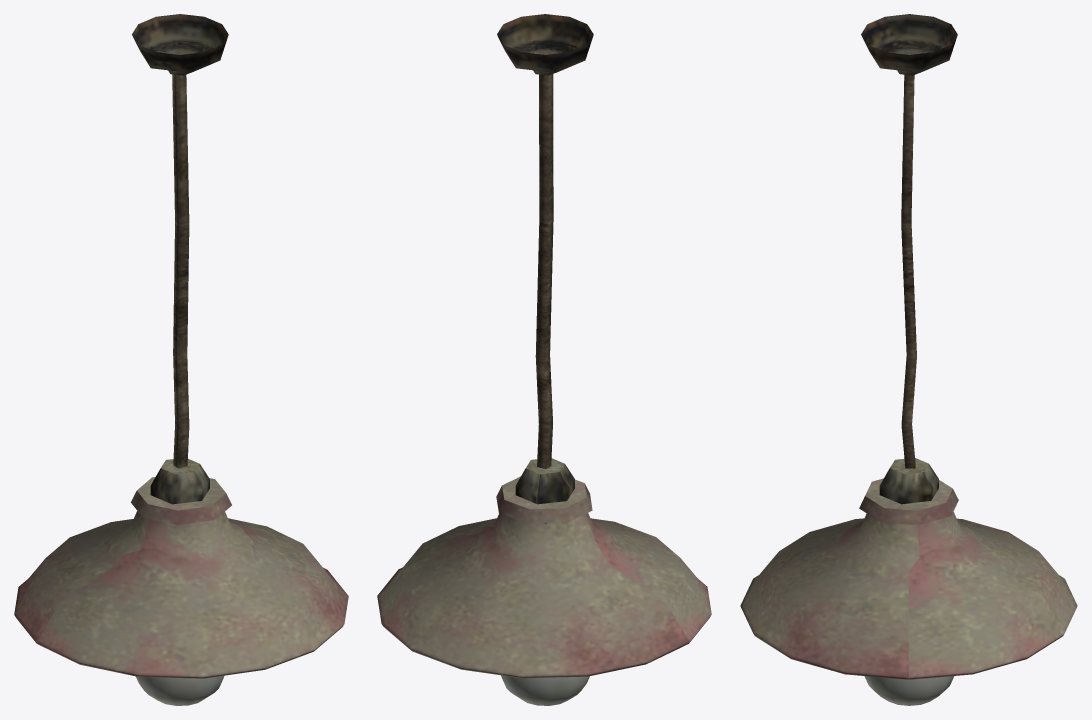
File: sm35_053_light01a.fbx
3 renders of one model, left to right at view 1: azimuth 30°, elevation 25°; view 2: azimuth 150°, elevation 25°; view 3: azimuth 270°, elevation 25°, orthographic.
Parts seen in each view (by area): view 1: LOD_1_Group_3_Sub_1__sm35_053_Light01A_B_Mat, LOD_1_Group_4_Sub_1__sm35_053_Light01A_B_Mat, LOD_1_Group_1_Sub_1__sm35_053_Light01A_B_Mat1__Env_Emissive; view 2: LOD_1_Group_3_Sub_1__sm35_053_Light01A_B_Mat, LOD_1_Group_4_Sub_1__sm35_053_Light01A_B_Mat, LOD_1_Group_1_Sub_1__sm35_053_Light01A_B_Mat1__Env_Emissive; view 3: LOD_1_Group_3_Sub_1__sm35_053_Light01A_B_Mat, LOD_1_Group_4_Sub_1__sm35_053_Light01A_B_Mat, LOD_1_Group_1_Sub_1__sm35_053_Light01A_B_Mat1__Env_Emissive.
Part boxes in pixels (left/top/right/bottom): LOD_1_Group_3_Sub_1__sm35_053_Light01A_B_Mat: left=14, top=459, right=348, bottom=678; LOD_1_Group_4_Sub_1__sm35_053_Light01A_B_Mat: left=132, top=14, right=228, bottom=468; LOD_1_Group_1_Sub_1__sm35_053_Light01A_B_Mat1__Env_Emissive: left=135, top=675, right=224, bottom=705; LOD_1_Group_3_Sub_1__sm35_053_Light01A_B_Mat: left=377, top=458, right=711, bottom=678; LOD_1_Group_4_Sub_1__sm35_053_Light01A_B_Mat: left=497, top=14, right=593, bottom=468; LOD_1_Group_1_Sub_1__sm35_053_Light01A_B_Mat1__Env_Emissive: left=501, top=675, right=589, bottom=705; LOD_1_Group_3_Sub_1__sm35_053_Light01A_B_Mat: left=740, top=458, right=1077, bottom=679; LOD_1_Group_4_Sub_1__sm35_053_Light01A_B_Mat: left=861, top=14, right=957, bottom=468; LOD_1_Group_1_Sub_1__sm35_053_Light01A_B_Mat1__Env_Emissive: left=864, top=676, right=954, bottom=705.
Size of the model in its own units: 0.4849 by 1.06 by 0.4849.
